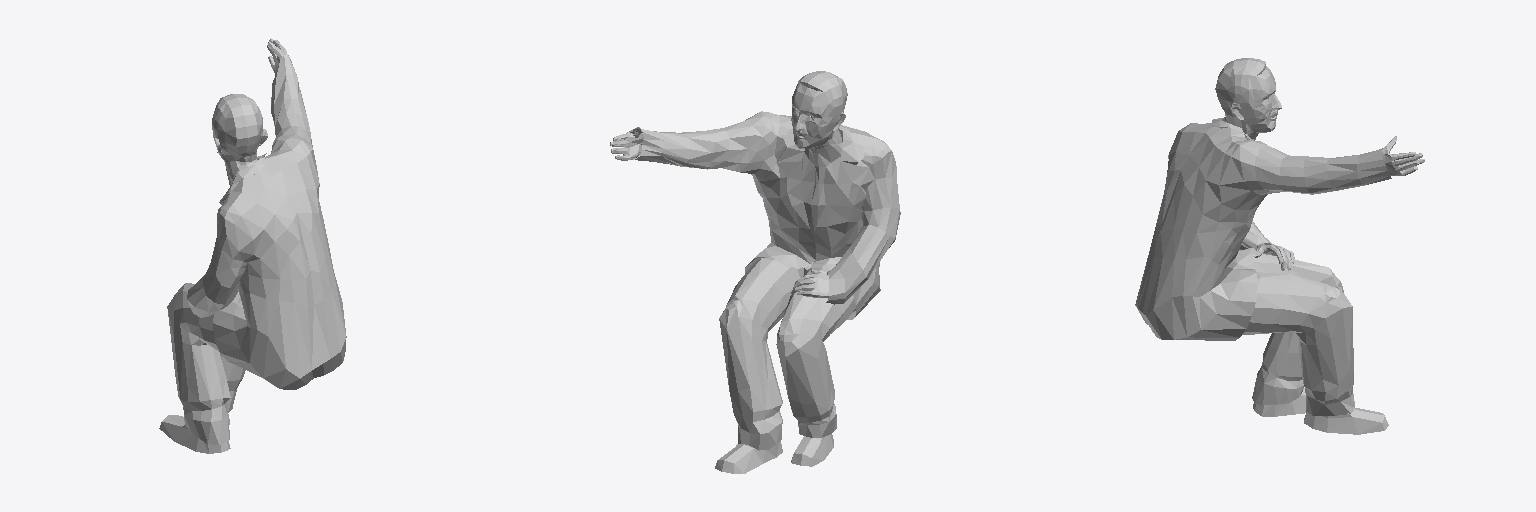
Rendered from BMan0001-Se.obj.
3 renders of one model, left to right at view 1: azimuth 30°, elevation 25°; view 2: azimuth 150°, elevation 25°; view 3: azimuth 270°, elevation 25°, orthographic.
Visible parts, largest first — view 1: bman0001_se_layer1; view 2: bman0001_se_layer1; view 3: bman0001_se_layer1.
Part boxes in pixels (bbox=[...]): bman0001_se_layer1: bbox=[159, 38, 346, 453]; bman0001_se_layer1: bbox=[610, 71, 900, 473]; bman0001_se_layer1: bbox=[1135, 58, 1424, 434].
Size of the model in its own units: 0.6922 by 1.34 by 0.9818.